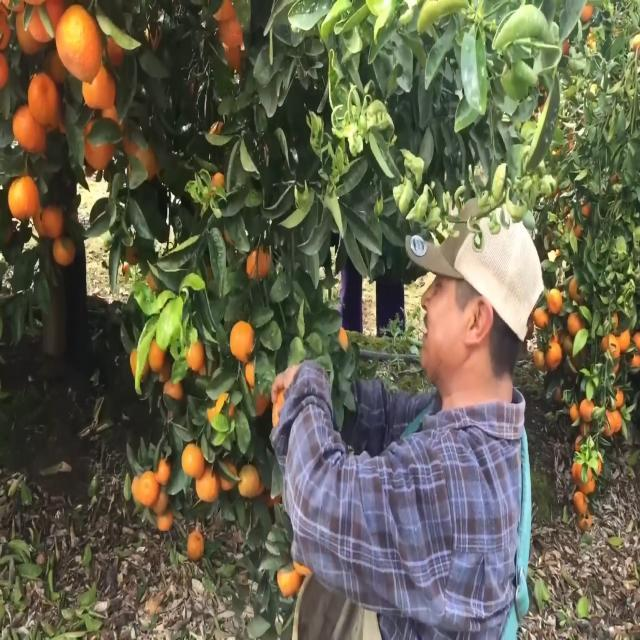Jeruk Sudah Matang: (53, 2, 106, 92), (26, 66, 61, 132), (11, 104, 48, 154), (226, 316, 258, 367), (132, 468, 164, 516), (7, 177, 40, 220), (36, 203, 70, 242), (192, 470, 222, 510), (179, 443, 207, 477), (185, 341, 207, 380), (544, 286, 563, 314)
